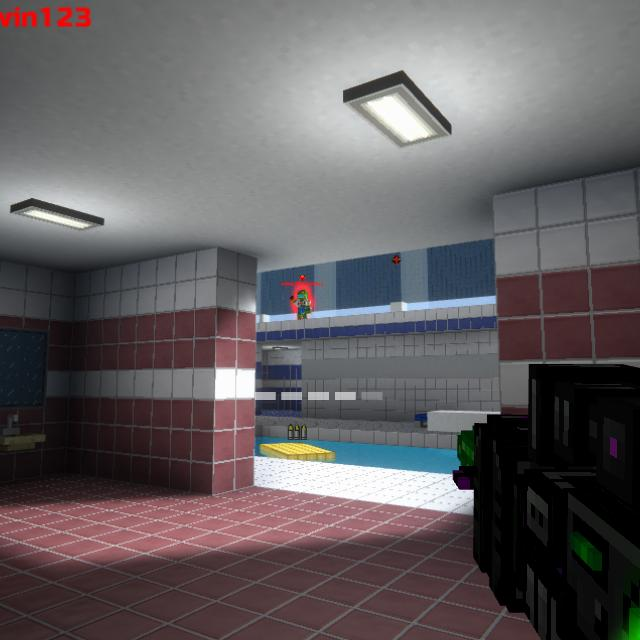Enemy: (292, 288, 309, 319)
